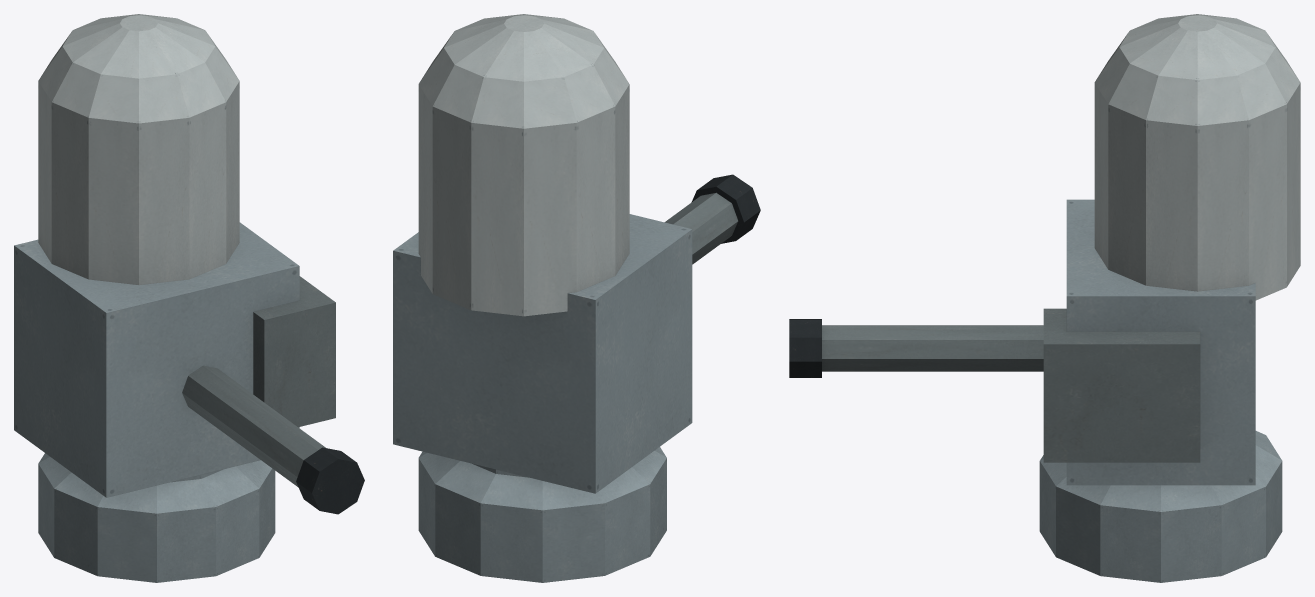
The model's file is mount_spruance_phalanx_metric.glb.
The picture shows the model from 3 angles, left to right: view 1: azimuth 30°, elevation 25°; view 2: azimuth 150°, elevation 25°; view 3: azimuth 270°, elevation 25°; orthographic projection. The views are drawn at different scales.
Parts seen in each view (by area): view 1: MESH_SPRUANCE_TEMPLATE_phalanx.006; view 2: MESH_SPRUANCE_TEMPLATE_phalanx.006; view 3: MESH_SPRUANCE_TEMPLATE_phalanx.006.
Boxes of the visible parts, x1,y1,x2,y2 form: MESH_SPRUANCE_TEMPLATE_phalanx.006: (14, 14, 364, 582); MESH_SPRUANCE_TEMPLATE_phalanx.006: (393, 14, 760, 582); MESH_SPRUANCE_TEMPLATE_phalanx.006: (789, 14, 1300, 582).
Size of the model in its own units: 2.04 by 4.3 by 3.92.
Materials: 1 (1 with a texture image).
